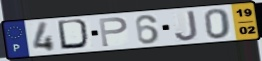0: (203, 8, 232, 40)
4: (31, 20, 57, 54)
6: (134, 13, 161, 46)
D: (56, 18, 93, 51)
J: (173, 9, 200, 42)
P: (98, 16, 130, 48)
